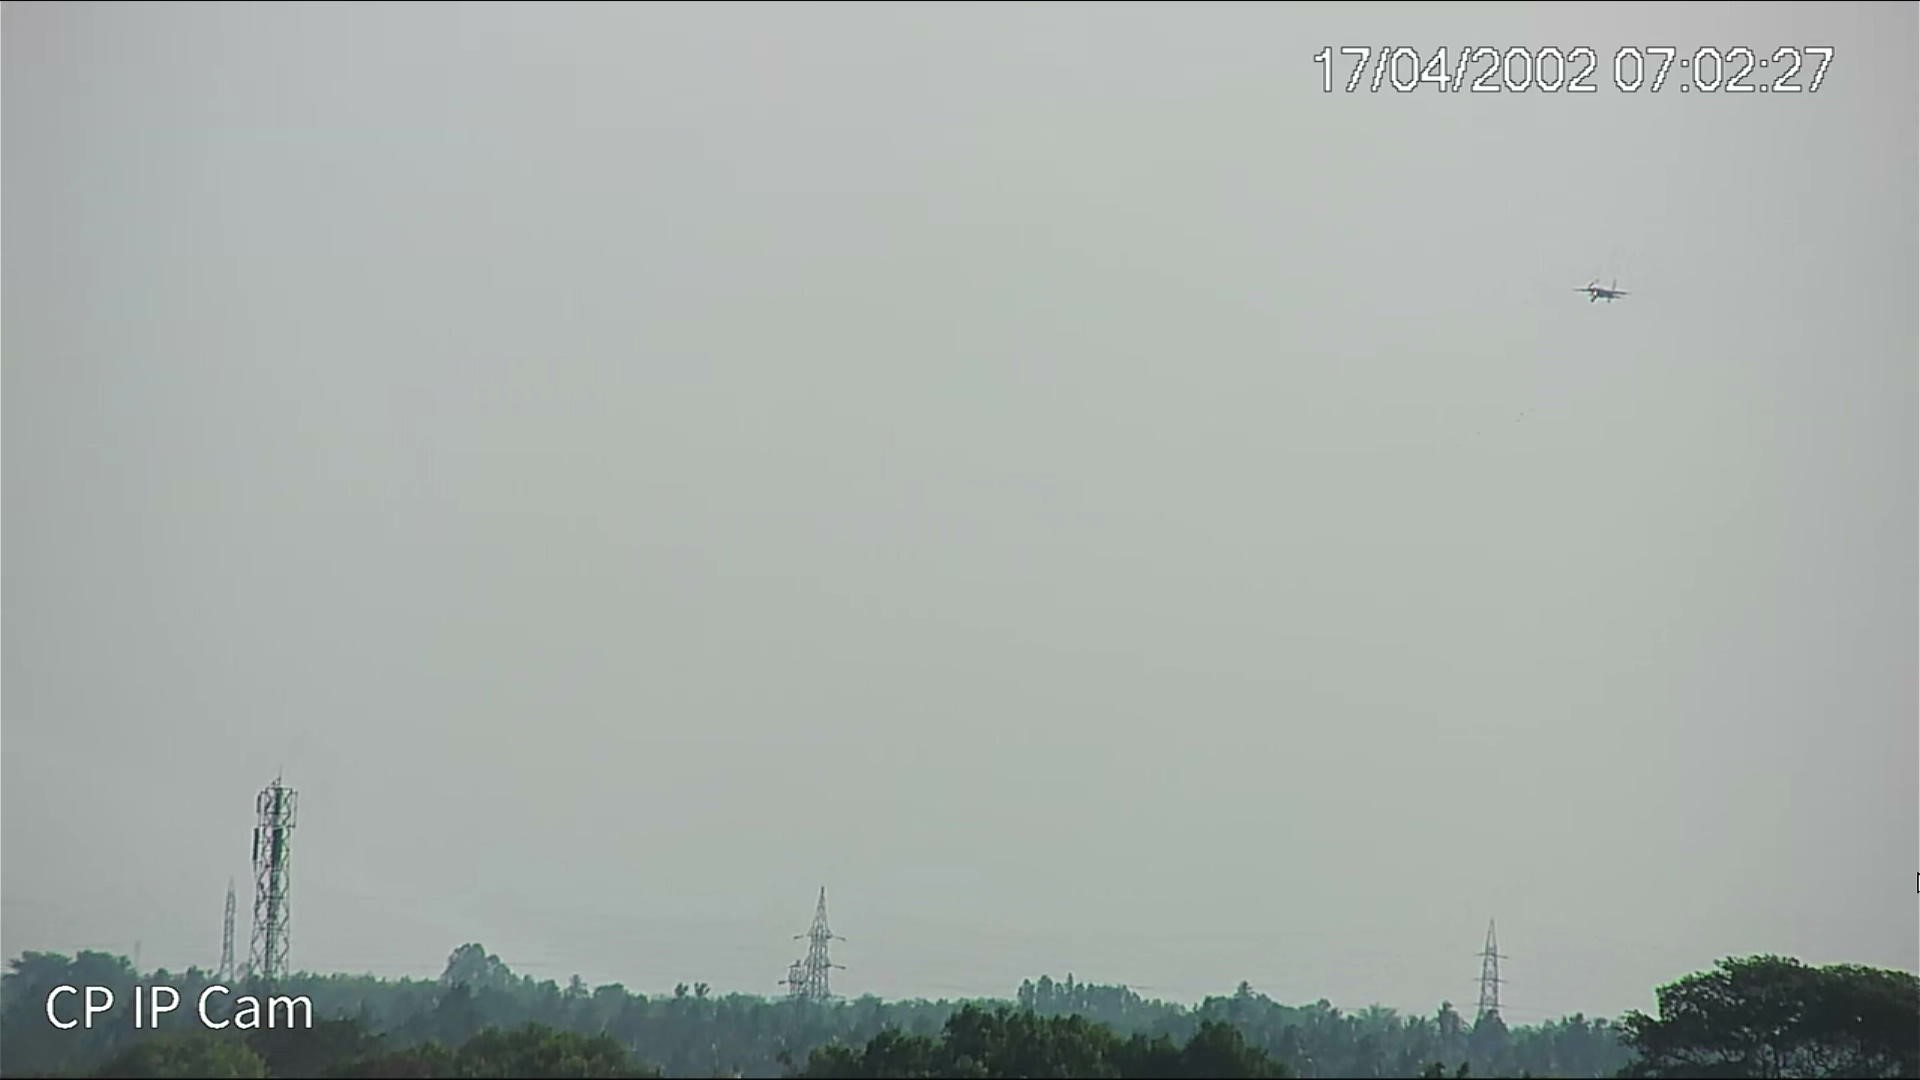SU_30: (1575, 280, 1629, 303)
